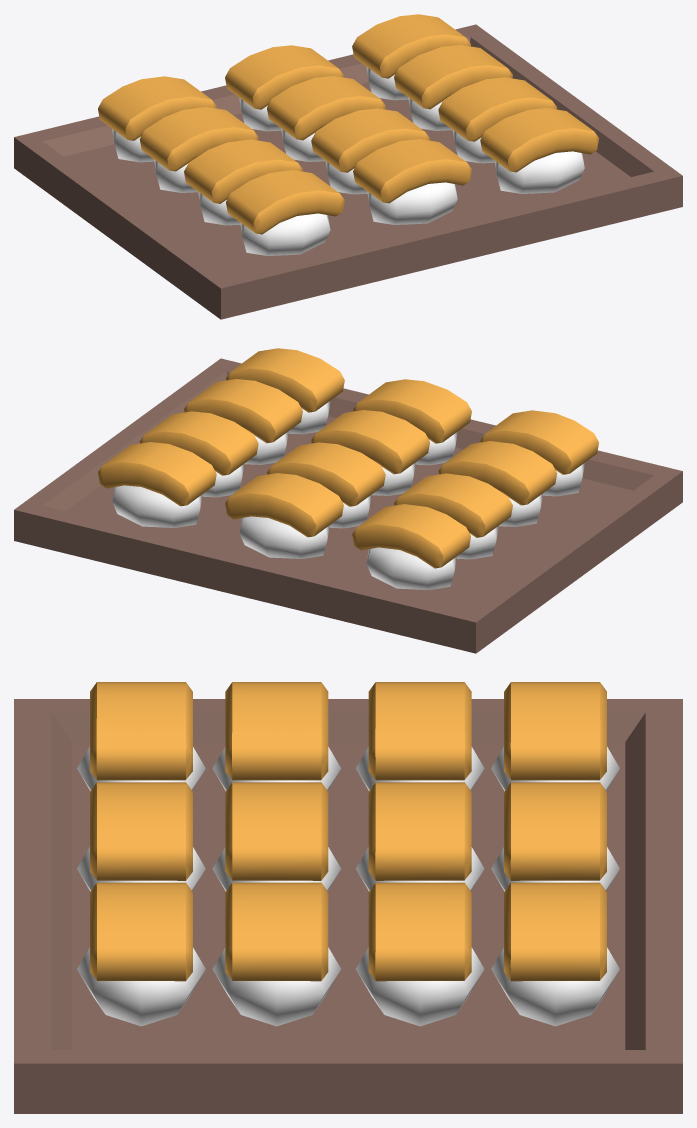
Rendered from JP_Food_Sushi_4.fbx.
The picture shows the model from 3 angles, top to bottom: view 1: azimuth 30°, elevation 25°; view 2: azimuth 150°, elevation 25°; view 3: azimuth 270°, elevation 25°; orthographic projection. The views are drawn at different scales.
Parts seen in each view (by area): view 1: JP_Food; view 2: JP_Food; view 3: JP_Food.
Boxes of the visible parts, <box> form: JP_Food: <box>14,14,682,319</box>; JP_Food: <box>14,348,682,653</box>; JP_Food: <box>14,682,682,1113</box>.
Bounding box in the file's own units: 60.91 × 10.45 × 47.23.
